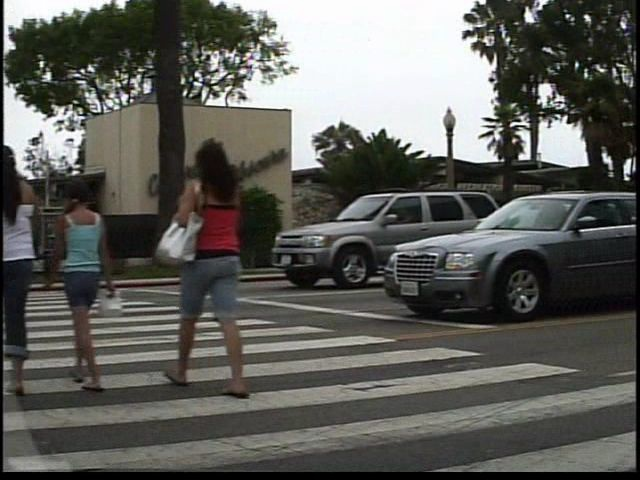person: (168, 138, 275, 406), (60, 177, 134, 401)
